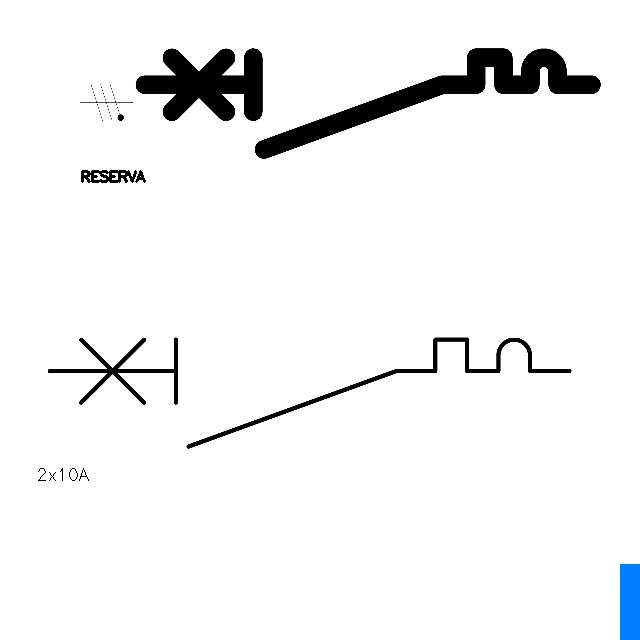interruptor_termomagnetico: (36, 326, 583, 460), (133, 46, 603, 161)
